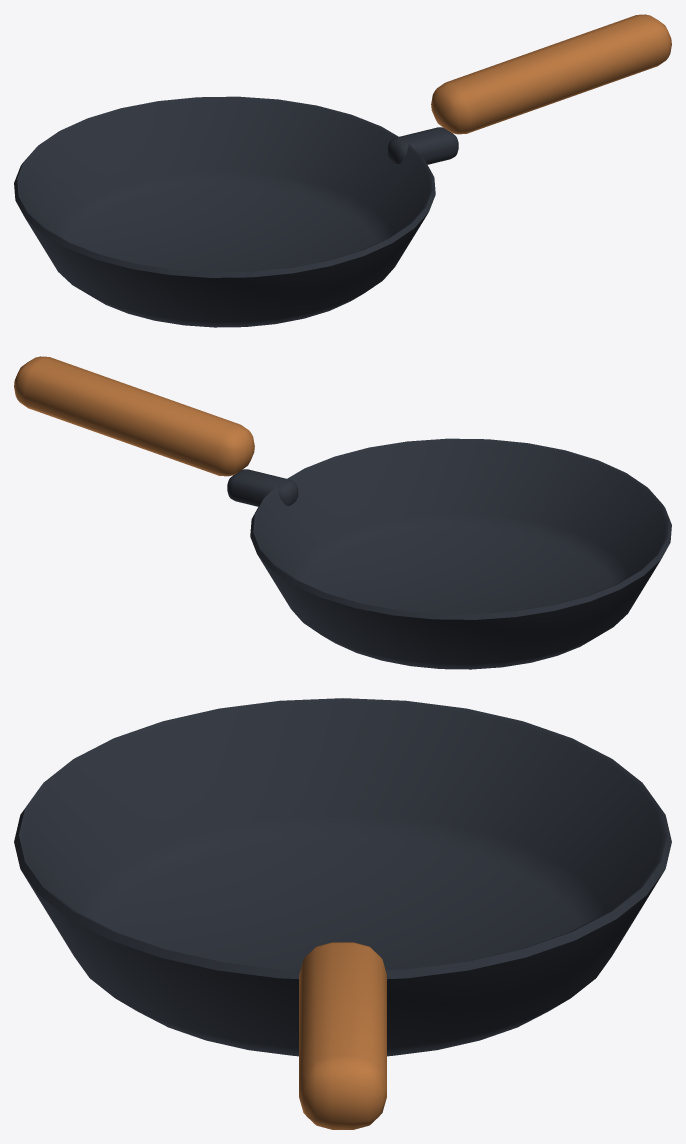
The model's file is frigideira_preta.glb.
3 renders of one model, top to bottom at view 1: azimuth 30°, elevation 25°; view 2: azimuth 150°, elevation 25°; view 3: azimuth 270°, elevation 25°, orthographic. The views are drawn at different scales.
Parts seen in each view (by area): view 1: frigideira_preta; view 2: frigideira_preta; view 3: frigideira_preta.
Boxes of the visible parts, x1=… form: frigideira_preta: x1=14, y1=14, x2=671, y2=327; frigideira_preta: x1=14, y1=356, x2=671, y2=669; frigideira_preta: x1=14, y1=698, x2=671, y2=1129.
Bounding box in the file's own units: 0.409 × 0.0873 × 0.24.
Materials: 1 (1 with a texture image).
